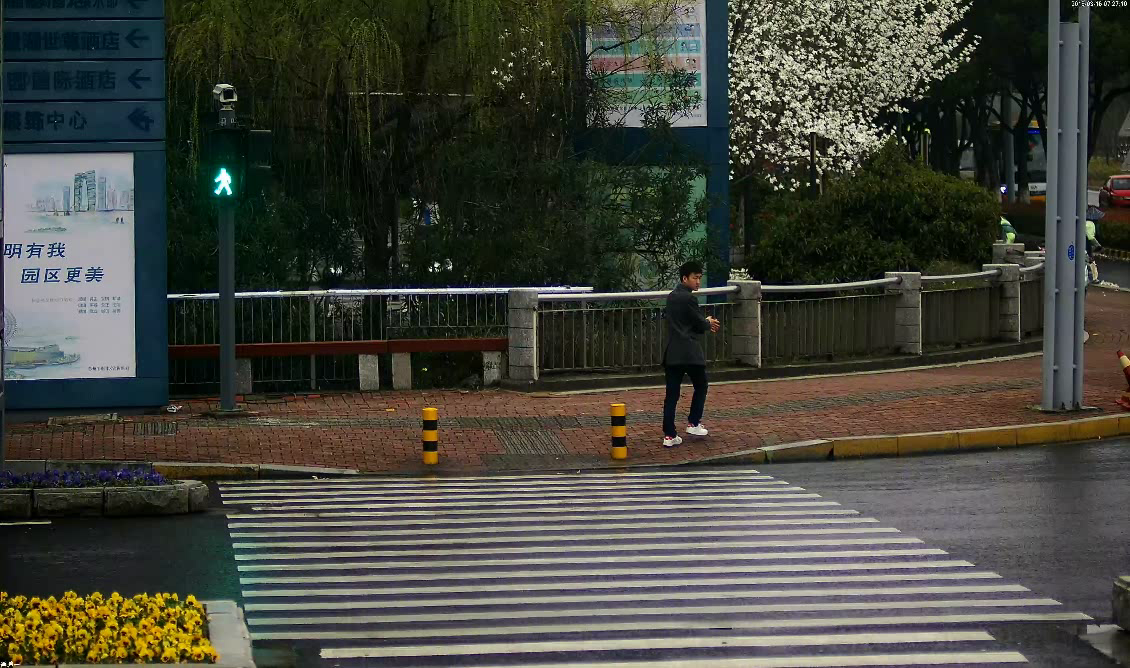person: (658, 256, 722, 455)
